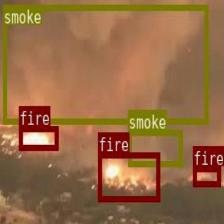fire: (98, 152, 159, 200), (18, 126, 58, 149), (192, 166, 220, 186)
smoke: (3, 4, 207, 122), (127, 129, 182, 165)
